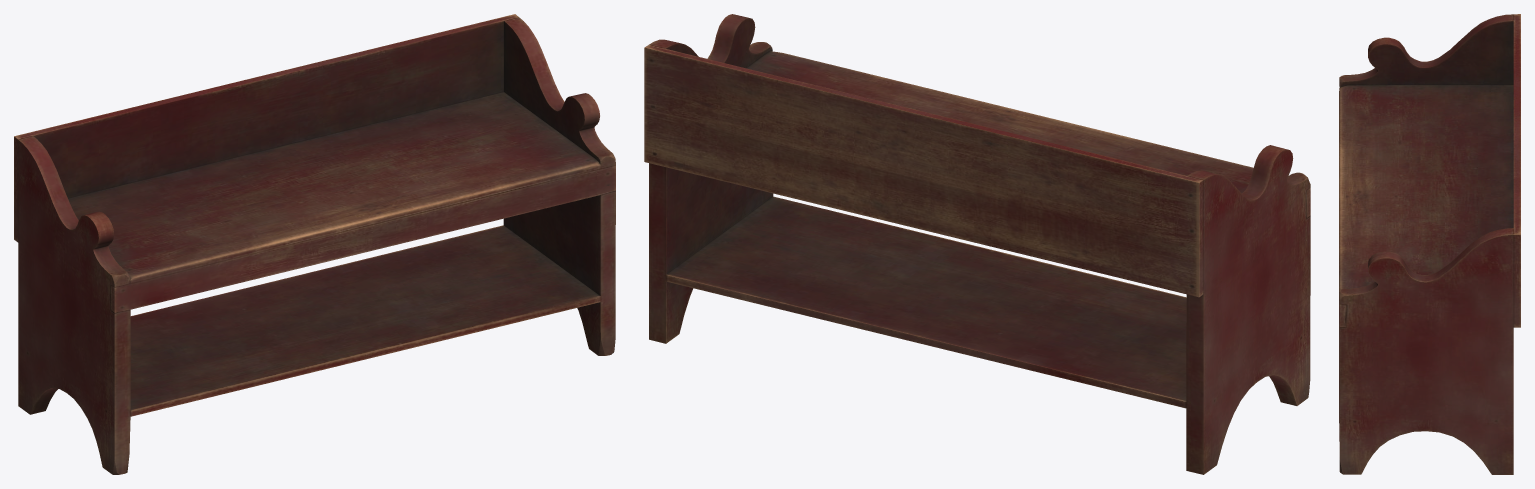
Rendered from yard-bench.glb.
The picture shows the model from 3 angles, left to right: view 1: azimuth 30°, elevation 25°; view 2: azimuth 150°, elevation 25°; view 3: azimuth 270°, elevation 25°; orthographic projection. The views are drawn at different scales.
Parts seen in each view (by area): view 1: yard-bench; view 2: yard-bench; view 3: yard-bench.
Part boxes in pixels (<box>): yard-bench: <box>14,14,615,474</box>; yard-bench: <box>644,14,1310,474</box>; yard-bench: <box>1339,14,1520,474</box>.
Bounding box in the file's own units: 1.75 × 0.89 × 0.61.
Materials: 1 (1 with a texture image).
